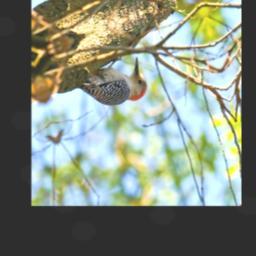Woodpecker: (66, 43, 157, 133)
